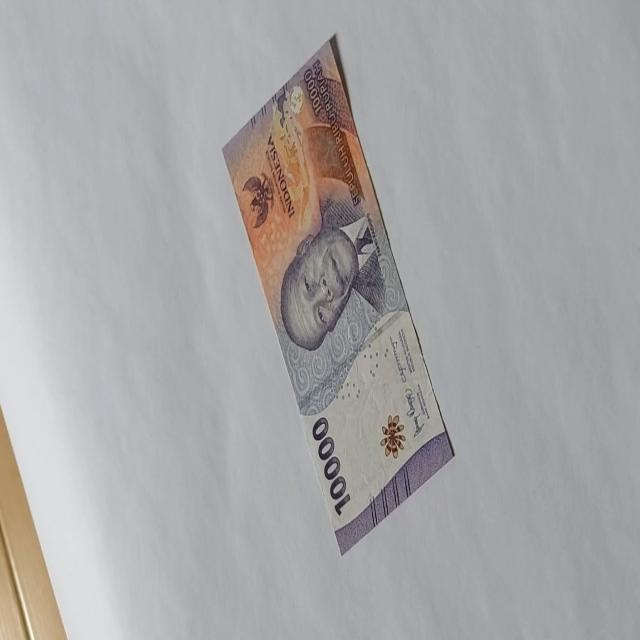sepuluh ribu rupiah: (220, 34, 456, 556)
